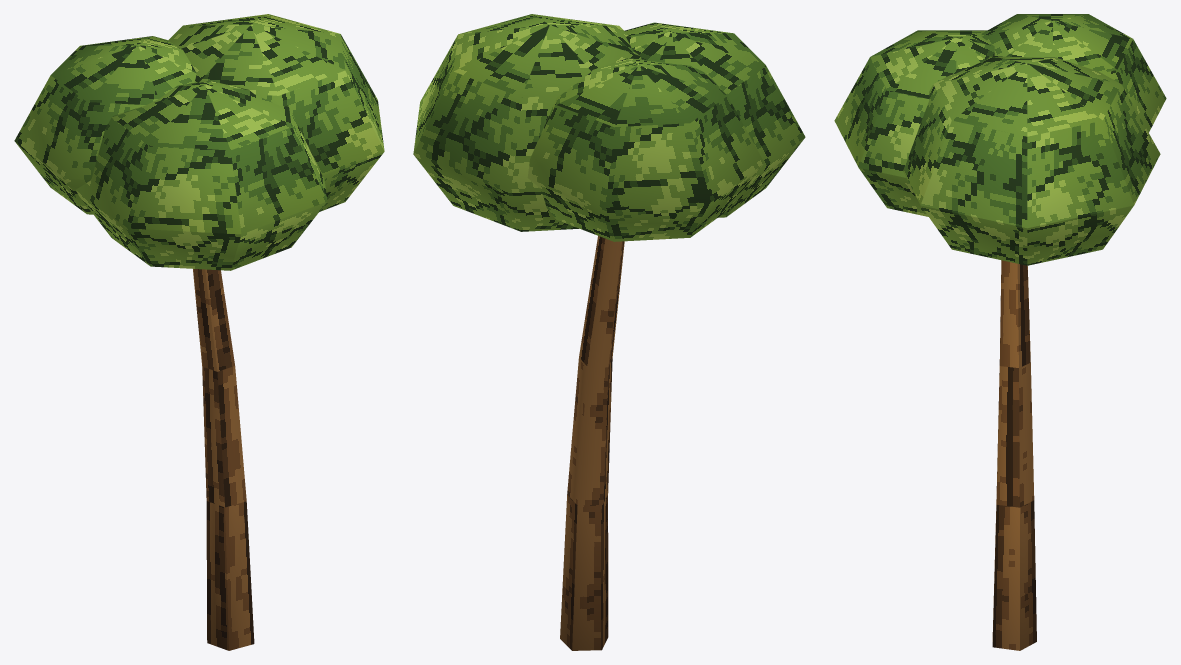
The model's file is nature.tree__birch.glb.
The picture shows the model from 3 angles, left to right: view 1: azimuth 30°, elevation 25°; view 2: azimuth 150°, elevation 25°; view 3: azimuth 270°, elevation 25°; orthographic projection. The views are drawn at different scales.
Visible parts, largest first — view 1: kit_canopy, kit_trunk; view 2: kit_canopy, kit_trunk; view 3: kit_canopy, kit_trunk.
Boxes of the visible parts, x1=… form: kit_canopy: x1=14, y1=14, x2=384, y2=270; kit_trunk: x1=193, y1=269, x2=254, y2=650; kit_canopy: x1=413, y1=14, x2=805, y2=241; kit_trunk: x1=560, y1=236, x2=624, y2=650; kit_canopy: x1=834, y1=14, x2=1166, y2=265; kit_trunk: x1=992, y1=260, x2=1036, y2=650.
Size of the model in its own units: 2.7 by 4.8 by 2.44.
Materials: 2 (2 with a texture image).
